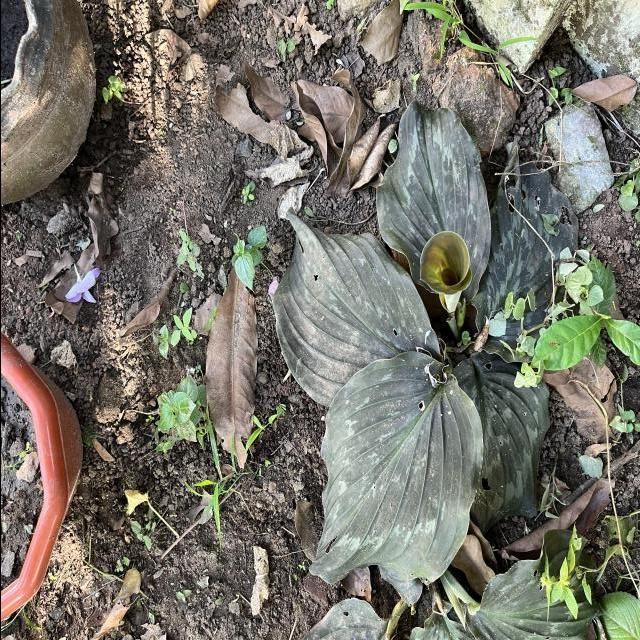Kaempferia galanga linn: (306, 349, 486, 586), (269, 203, 444, 409), (373, 96, 492, 310)
